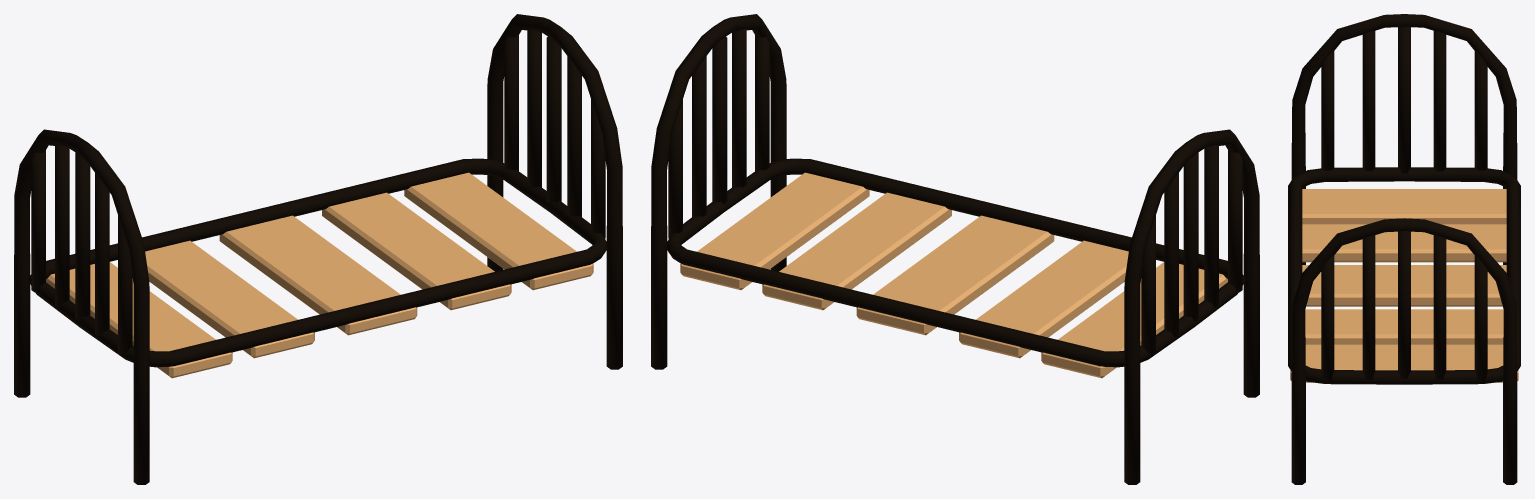
File: pelkka_sanky.fbx
The picture shows the model from 3 angles, left to right: view 1: azimuth 30°, elevation 25°; view 2: azimuth 150°, elevation 25°; view 3: azimuth 270°, elevation 25°; orthographic projection. The views are drawn at different scales.
Visible parts, largest first — view 1: sanky, laudat; view 2: sanky, laudat; view 3: sanky, laudat.
Boxes of the visible parts, box(x1,y1,x2,y2) form: sanky: box(14, 14, 622, 484); laudat: box(46, 172, 593, 378); sanky: box(651, 14, 1259, 484); laudat: box(680, 172, 1227, 378); sanky: box(1288, 14, 1520, 484); laudat: box(1290, 189, 1518, 382).
Bounding box in the file's own units: 6972 × 4092 × 3273.
